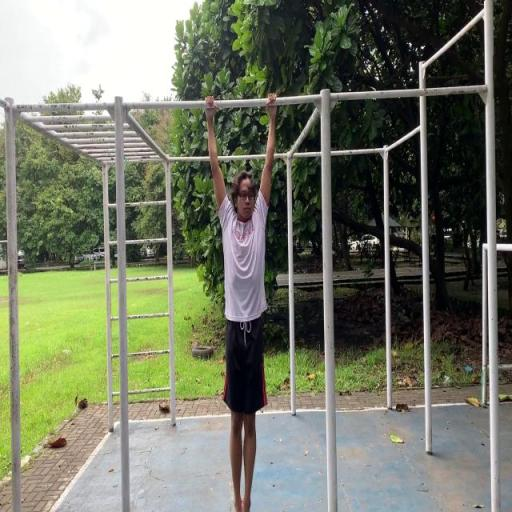Normal_BrenchPress: (204, 93, 278, 511)
